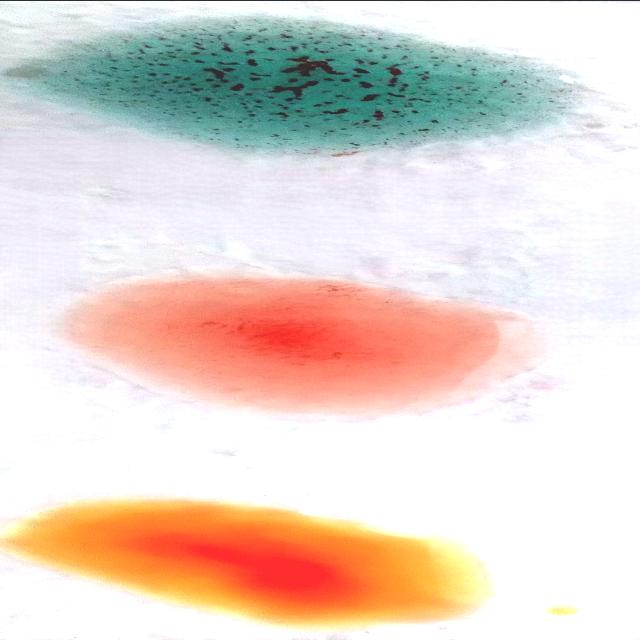A: (22, 17, 576, 151)
D: (79, 284, 529, 406)
